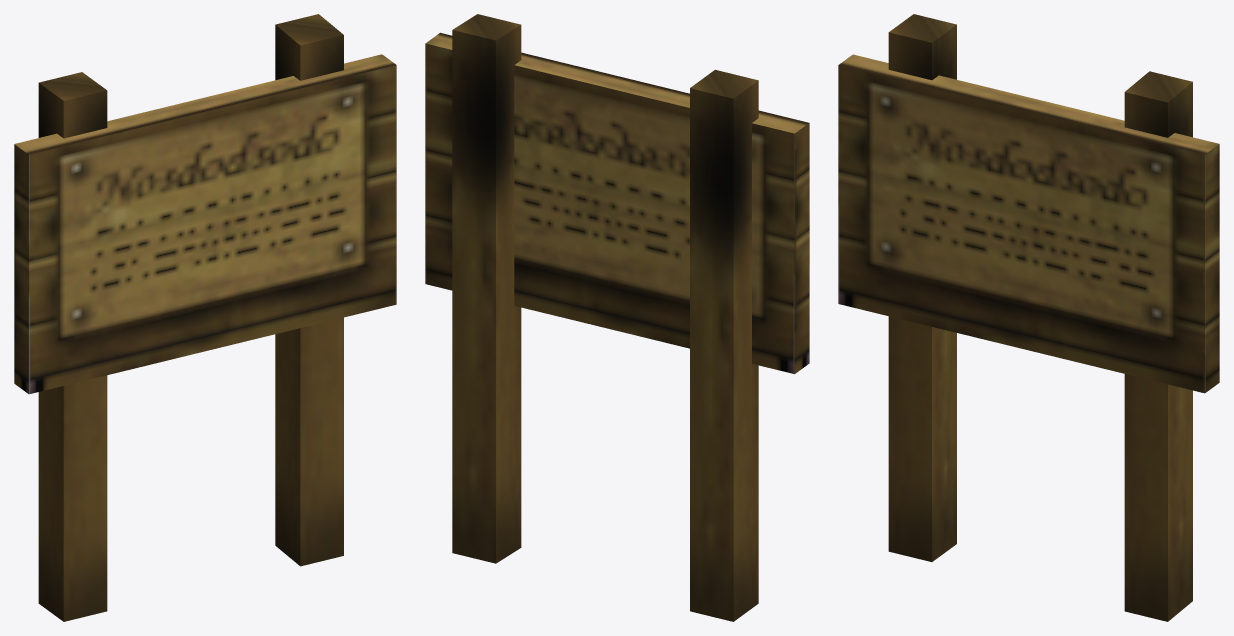
Rendered from gzc_wj_38.fbx.
3 renders of one model, left to right at view 1: azimuth 30°, elevation 25°; view 2: azimuth 150°, elevation 25°; view 3: azimuth 330°, elevation 25°, orthographic.
Visible parts, largest first — view 1: gzc_wj_38; view 2: gzc_wj_38; view 3: gzc_wj_38.
Part boxes in pixels (x1,y1,x2,y2): gzc_wj_38: [14, 14, 396, 621]; gzc_wj_38: [425, 14, 809, 621]; gzc_wj_38: [838, 14, 1219, 621].
Bounding box in the file's own units: 252 × 343 × 39.13.
1 material, 1 textured.
